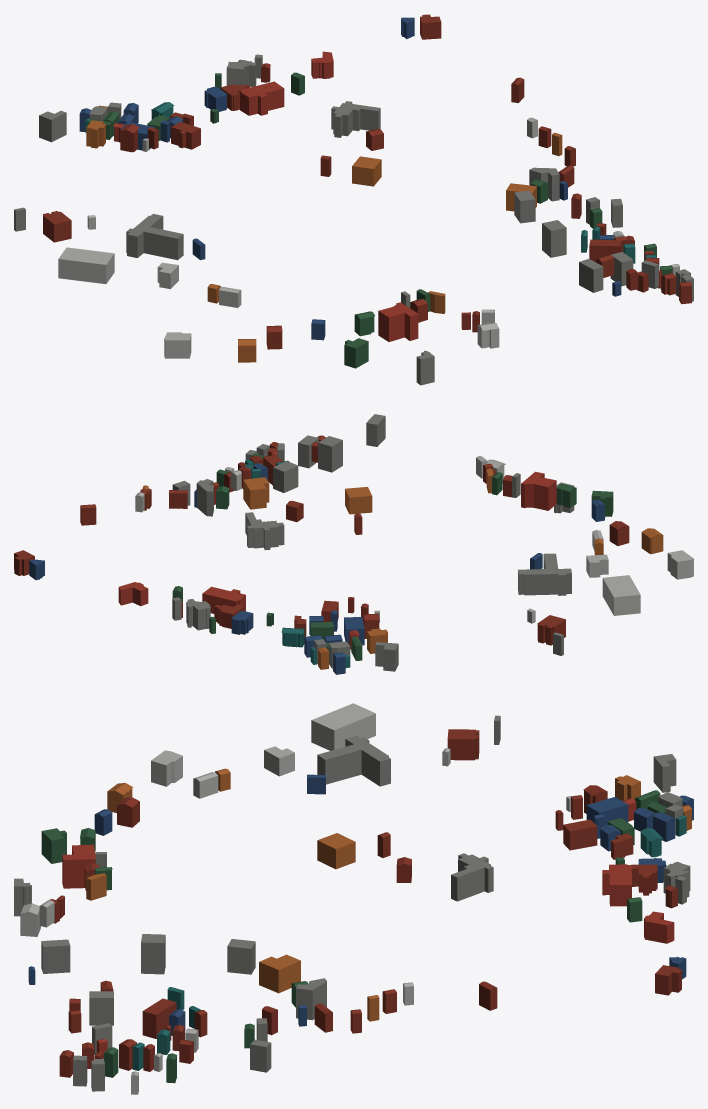
File: near-16-54726-29738.6f89c3ae.glb
3 renders of one model, top to bottom at view 1: azimuth 30°, elevation 25°; view 2: azimuth 150°, elevation 25°; view 3: azimuth 270°, elevation 25°, orthographic. The views are drawn at different scales.
Size of the model in its own units: 606 by 122 by 586.
